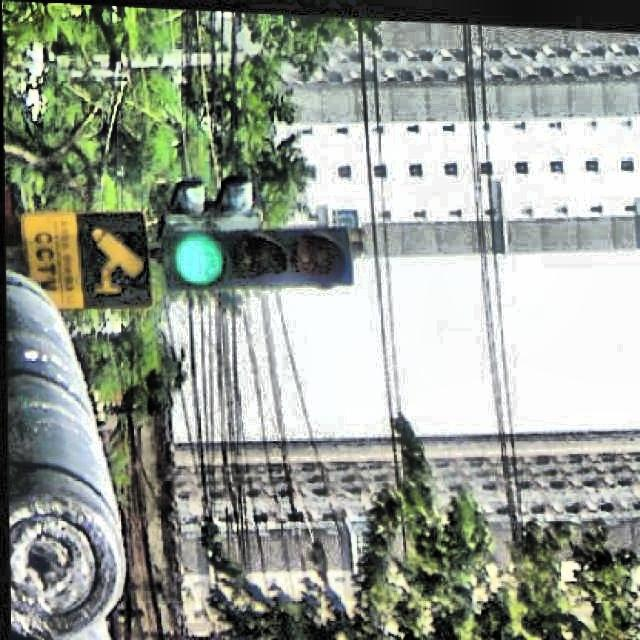green: (158, 225, 358, 288)
